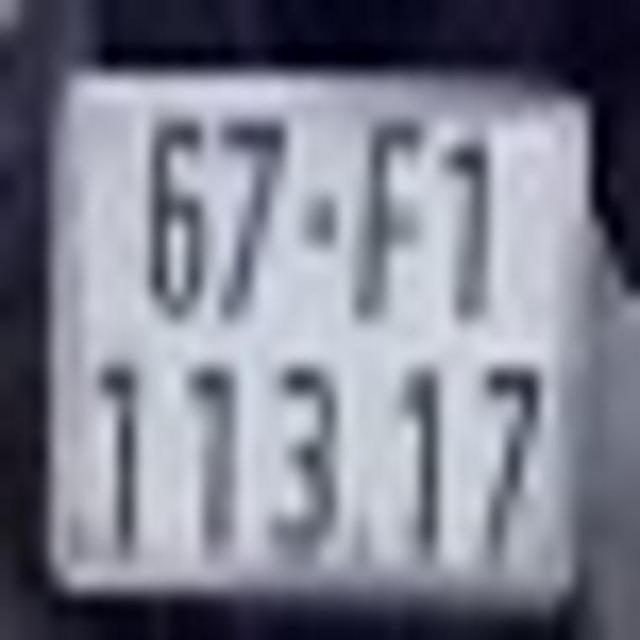1: (383, 348, 460, 582), (177, 349, 258, 568), (85, 348, 163, 567), (432, 117, 508, 326)
3: (269, 346, 342, 575)
6: (147, 99, 212, 328)
7: (478, 345, 548, 578), (216, 103, 286, 326)
F: (352, 106, 432, 327)
